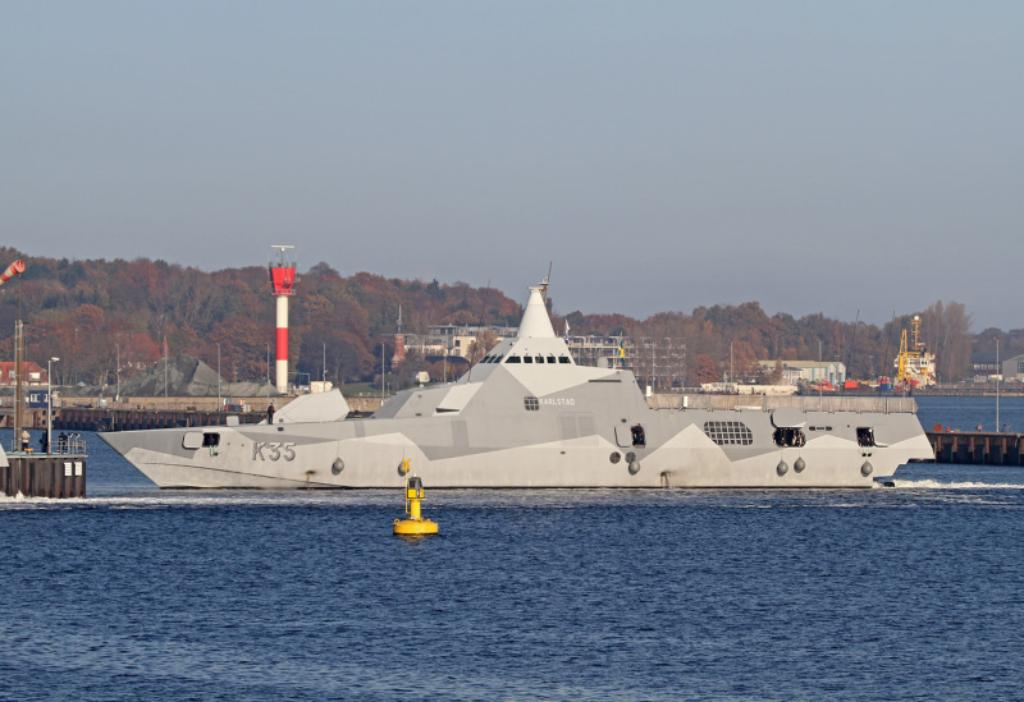Warship: (94, 262, 936, 490)
